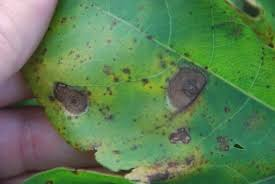Diseased_Leaves: (106, 131, 265, 180), (204, 11, 274, 50), (166, 66, 211, 116), (45, 38, 114, 61), (58, 86, 88, 118), (121, 63, 139, 83), (101, 63, 112, 76)
